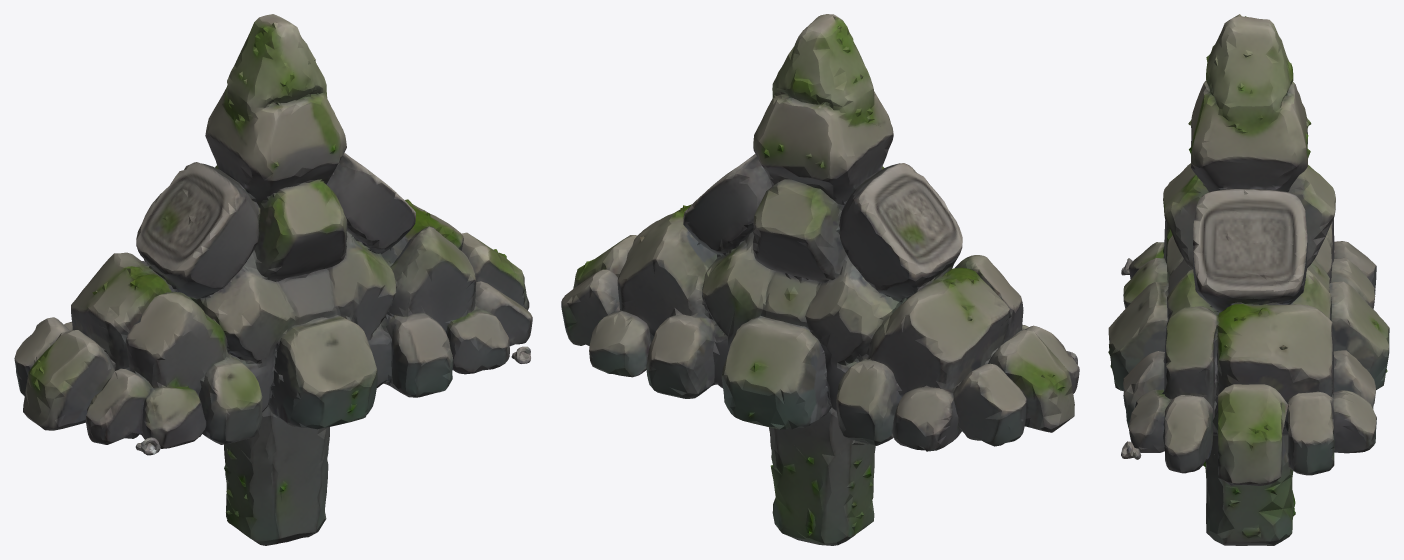
Rendered from rodin_Lab_Rubble_raw.glb.
3 views of the same model, side by side, from view 1: azimuth 30°, elevation 25°; view 2: azimuth 150°, elevation 25°; view 3: azimuth 270°, elevation 25° (orthographic).
Parts seen in each view (by area): view 1: model; view 2: model; view 3: model.
Part boxes in pixels (x1,y1,x2,y2): model: (14,14,532,545); model: (561,14,1079,545); model: (1108,14,1389,545).
Size of the model in its own units: 1.9 by 1.9 by 0.94.
1 material, 1 textured.
